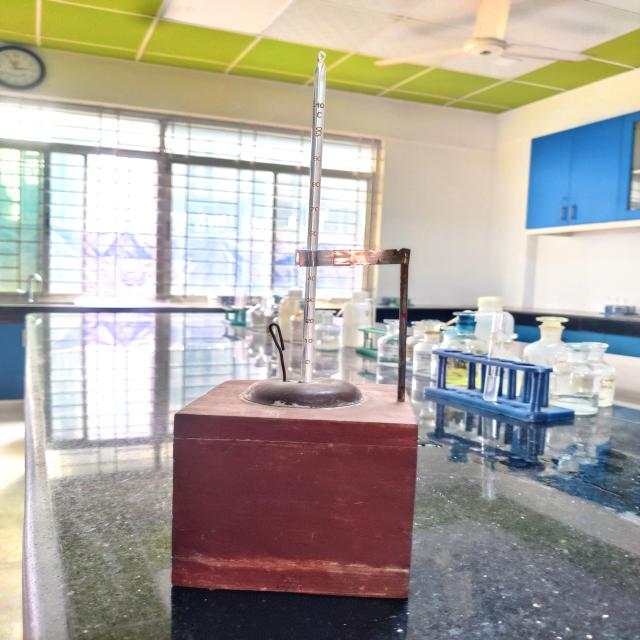Calorimeter: (152, 29, 439, 614)
